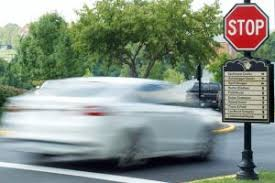stop sign: (223, 2, 268, 51)
